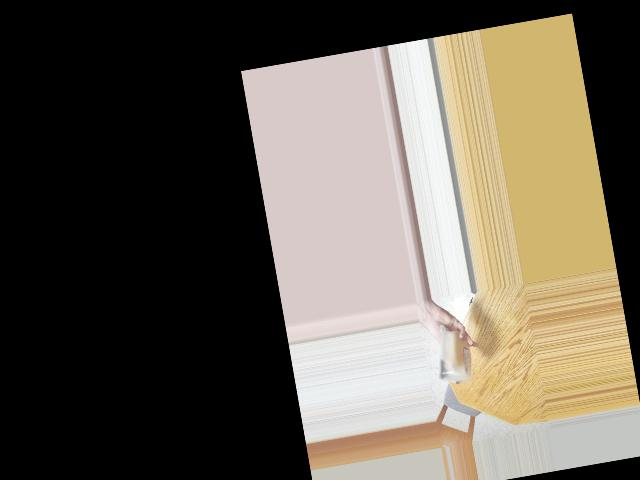cheese: (436, 331, 473, 382)
